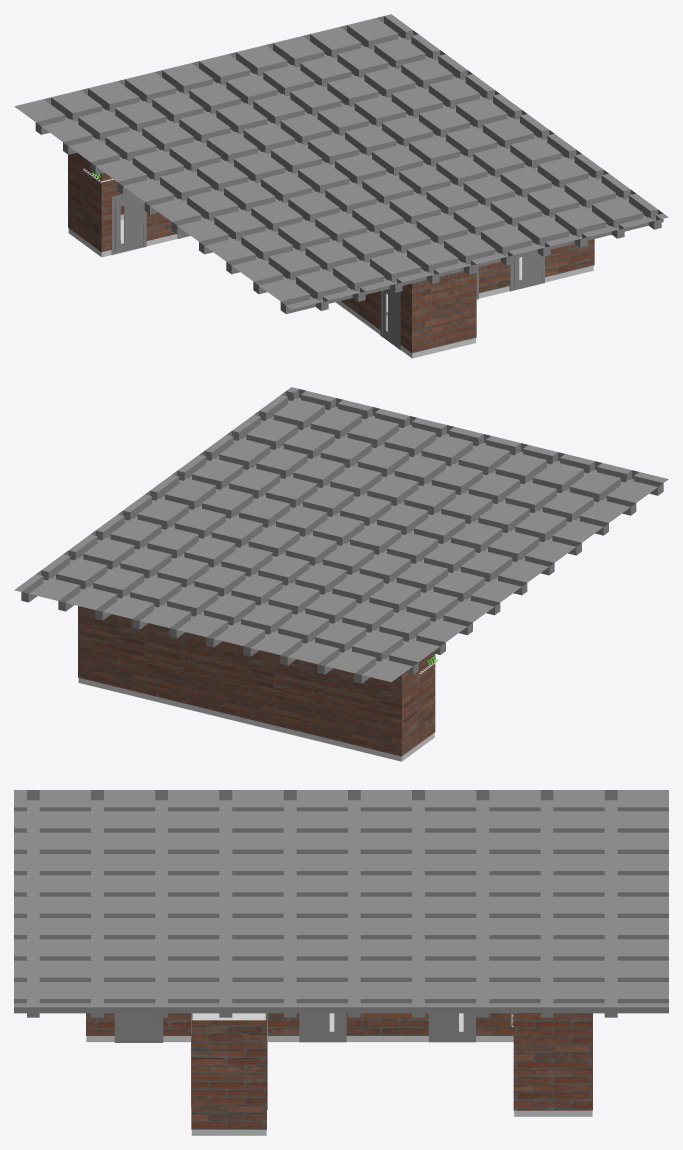
File: Mapa5.fbx
3 views of the same model, one above another, from view 1: azimuth 30°, elevation 25°; view 2: azimuth 150°, elevation 25°; view 3: azimuth 270°, elevation 25° (orthographic). The views are drawn at different scales.
Parts seen in each view (by area): view 1: Techo, Cube, Puerta.011, Puerta.014, Puerta.008; view 2: Techo, Cube; view 3: Techo, Cube, Puerta 1.001, Puerta.001, Puerta.002.
Part boxes in pixels (x1=…): Techo: x1=14, y1=14, x2=668, y2=313; Cube: x1=68, y1=152, x2=594, y2=358; Puerta.011: x1=111, y1=192, x2=146, y2=254; Puerta.014: x1=380, y1=289, x2=401, y2=350; Puerta.008: x1=509, y1=253, x2=544, y2=291; Techo: x1=14, y1=387, x2=668, y2=683; Cube: x1=78, y1=606, x2=435, y2=761; Techo: x1=14, y1=790, x2=668, y2=1017; Cube: x1=86, y1=1013, x2=592, y2=1135; Puerta 1.001: x1=114, y1=1013, x2=163, y2=1042; Puerta.001: x1=299, y1=1013, x2=346, y2=1042; Puerta.002: x1=428, y1=1013, x2=475, y2=1042.
Size of the model in its own units: 1170 by 322 by 1487.
